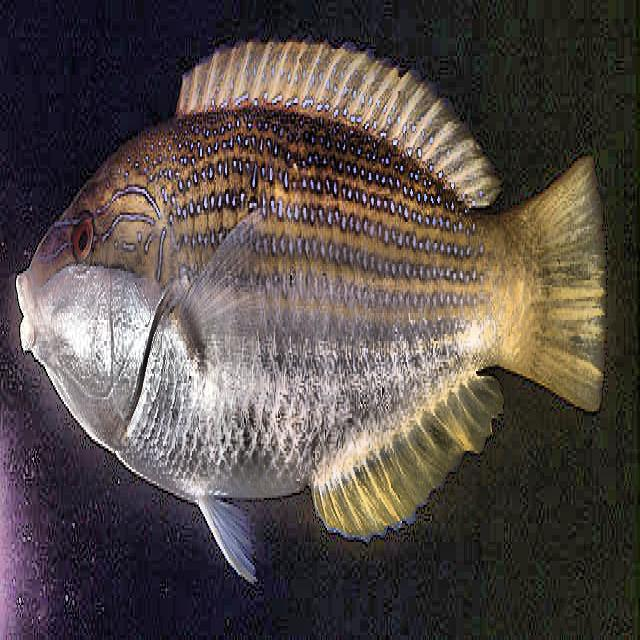fish: (15, 36, 603, 592)
